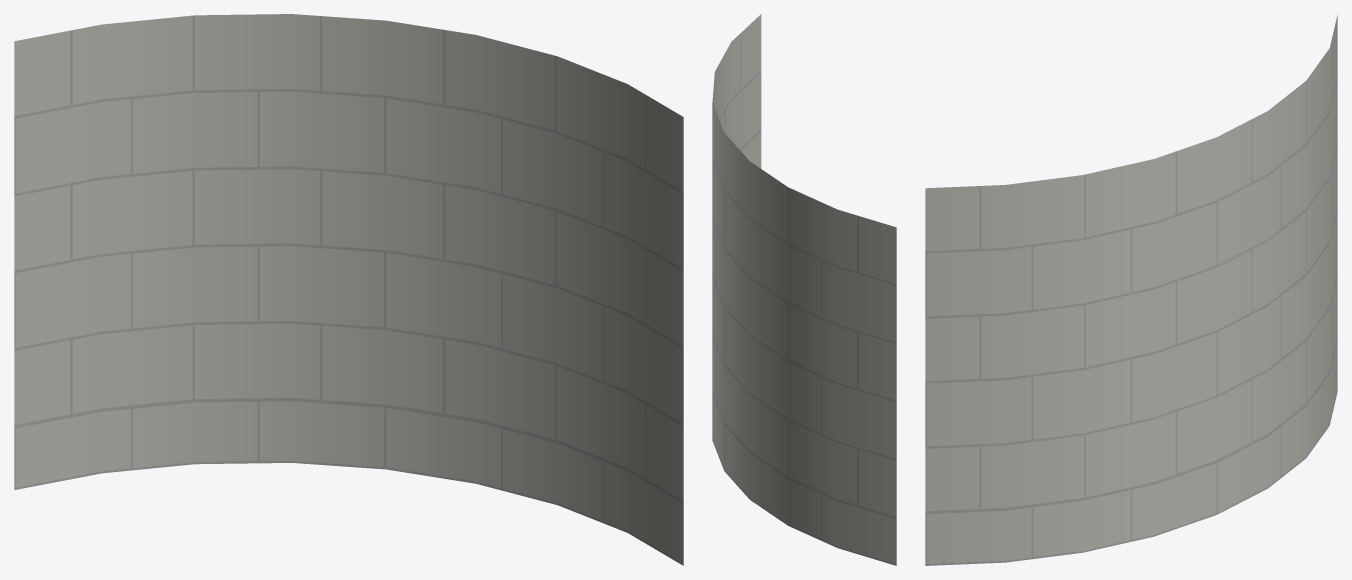
The model's file is SM_CornerWall_b01.fbx.
3 renders of one model, left to right at view 1: azimuth 30°, elevation 25°; view 2: azimuth 150°, elevation 25°; view 3: azimuth 270°, elevation 25°, orthographic. The views are drawn at different scales.
Visible parts, largest first — view 1: SM_CornerWall_b01; view 2: SM_CornerWall_b01; view 3: SM_CornerWall_b01.
Part boxes in pixels (left/top/right/bottom): SM_CornerWall_b01: left=14, top=14, right=683, bottom=565; SM_CornerWall_b01: left=712, top=14, right=896, bottom=565; SM_CornerWall_b01: left=925, top=15, right=1337, bottom=565.
Size of the model in its own units: 396 by 396 by 400.
